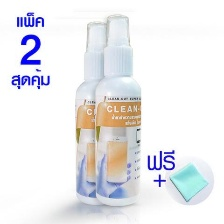cleaning_solution: (92, 13, 143, 208), (72, 19, 115, 206)
